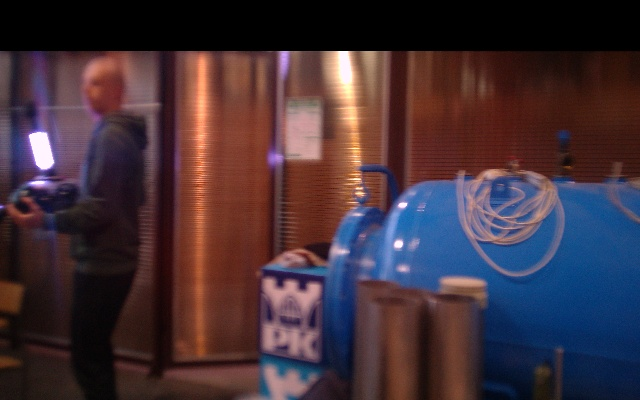white: (29, 132, 53, 171)
